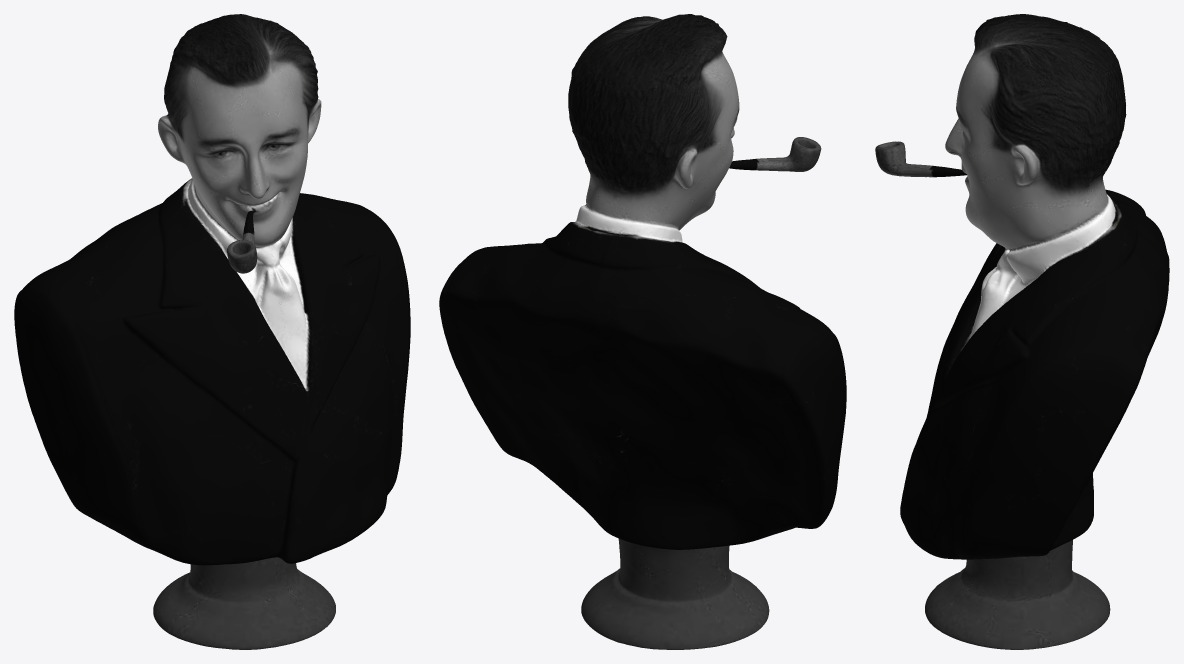
The model's file is Bing_Crosby_improved.glb.
3 renders of one model, left to right at view 1: azimuth 30°, elevation 25°; view 2: azimuth 150°, elevation 25°; view 3: azimuth 270°, elevation 25°, orthographic. The views are drawn at different scales.
Size of the model in its own units: 1.23 by 1.9 by 0.8577.
1 material, 1 textured.
